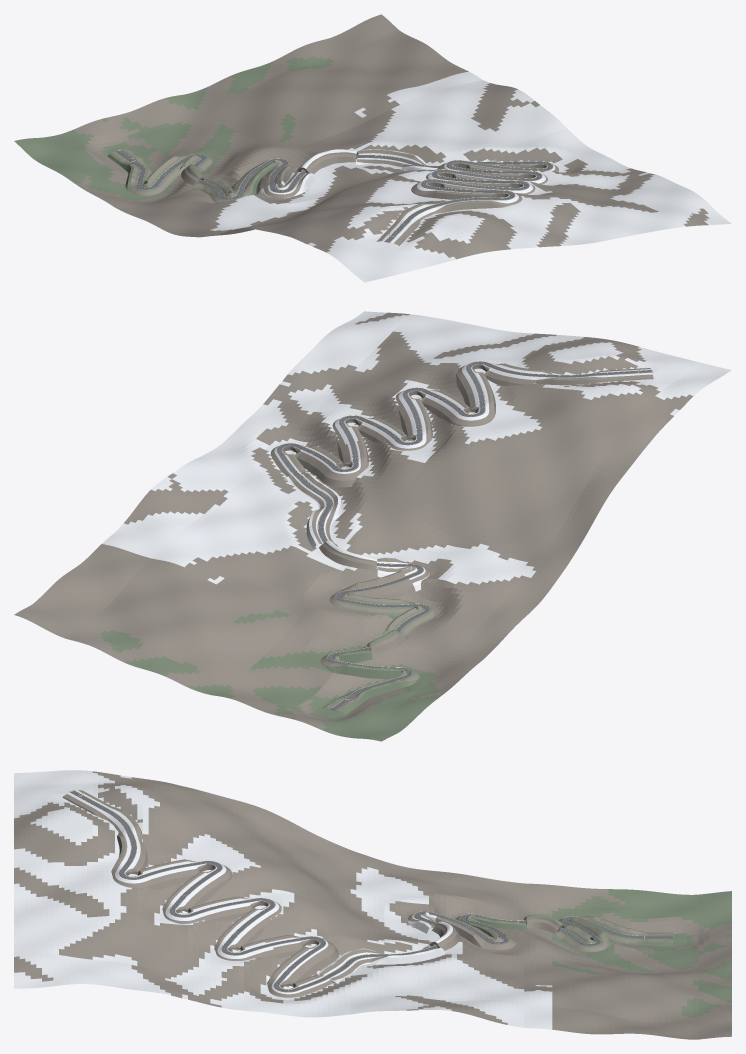
The model's file is Dag_Yol.fbx.
3 renders of one model, top to bottom at view 1: azimuth 30°, elevation 25°; view 2: azimuth 150°, elevation 25°; view 3: azimuth 270°, elevation 25°, orthographic. The views are drawn at different scales.
Visible parts, largest first — view 1: Arazi_Dis_01, Arazi_Dis_03, Arazi_Dis_02, Arazi_Dis_08, Arazi_Dis_07, Arazi_Dis_04, Arazi_Dis_05, Arazi_Dis_06, Yol_Yuzey, Arazi_Yamac_08, Arazi_Yamac_01, Arazi_Yamac_02 (+6 smaller); view 2: Arazi_Dis_06, Arazi_Dis_01, Arazi_Dis_03, Arazi_Dis_04, Arazi_Dis_02, Arazi_Dis_07, Arazi_Dis_08, Arazi_Dis_05, Yol_Yuzey, Arazi_Yamac_07, Arazi_Yamac_05, Arazi_Yamac_08 (+6 smaller); view 3: Arazi_Dis_07, Arazi_Dis_08, Arazi_Dis_06, Arazi_Dis_02, Arazi_Dis_05, Arazi_Dis_03, Arazi_Dis_01, Arazi_Dis_04, Yol_Yuzey, Arazi_Yamac_07, Arazi_Yamac_05, Arazi_Yamac_06 (+7 smaller).
Boxes of the visible parts, x1,y1,x2,y2 form: Arazi_Dis_01: (198, 14, 468, 140); Arazi_Dis_03: (286, 71, 555, 178); Arazi_Dis_02: (14, 91, 284, 200); Arazi_Dis_08: (277, 197, 547, 282); Arazi_Dis_07: (501, 172, 731, 246); Arazi_Dis_04: (102, 141, 372, 236); Arazi_Dis_05: (373, 118, 643, 185); Arazi_Dis_06: (190, 171, 424, 237); Yol_Yuzey: (117, 150, 552, 241); Arazi_Yamac_08: (376, 193, 522, 245); Arazi_Yamac_01: (107, 148, 212, 196); Arazi_Yamac_02: (179, 155, 278, 202); Arazi_Dis_06: (373, 412, 643, 580); Arazi_Dis_01: (14, 544, 284, 691); Arazi_Dis_03: (102, 462, 372, 612); Arazi_Dis_04: (285, 523, 556, 673); Arazi_Dis_02: (198, 613, 468, 741); Arazi_Dis_07: (277, 311, 547, 402); Arazi_Dis_08: (487, 334, 731, 449); Arazi_Dis_05: (189, 387, 445, 522); Yol_Yuzey: (276, 361, 651, 709); Arazi_Yamac_07: (395, 377, 495, 426); Arazi_Yamac_05: (270, 440, 368, 487); Arazi_Yamac_08: (456, 363, 653, 391); Arazi_Dis_07: (14, 870, 193, 1000); Arazi_Dis_08: (14, 770, 193, 874); Arazi_Dis_06: (193, 788, 372, 935); Arazi_Dis_02: (552, 885, 731, 977); Arazi_Dis_05: (193, 887, 372, 1017); Arazi_Dis_03: (373, 936, 552, 1029); Arazi_Dis_01: (552, 963, 731, 1039); Arazi_Dis_04: (373, 858, 552, 962); Yol_Yuzey: (71, 791, 673, 991); Arazi_Yamac_07: (147, 859, 232, 924); Arazi_Yamac_05: (262, 935, 338, 997); Arazi_Yamac_06: (205, 896, 281, 960).
Bounding box in the file's own units: 1226 × 451 × 2024.
